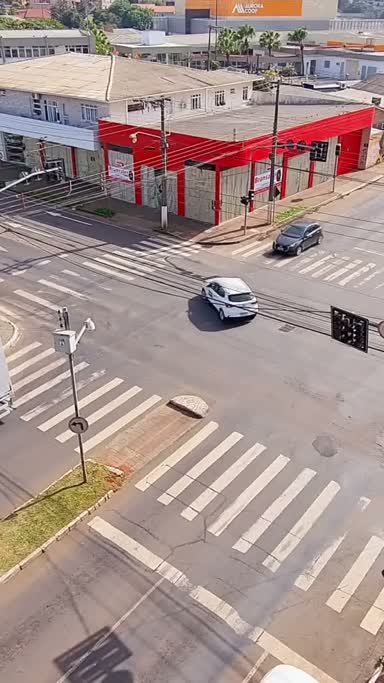car: (191, 274, 262, 333), (265, 218, 325, 262)
